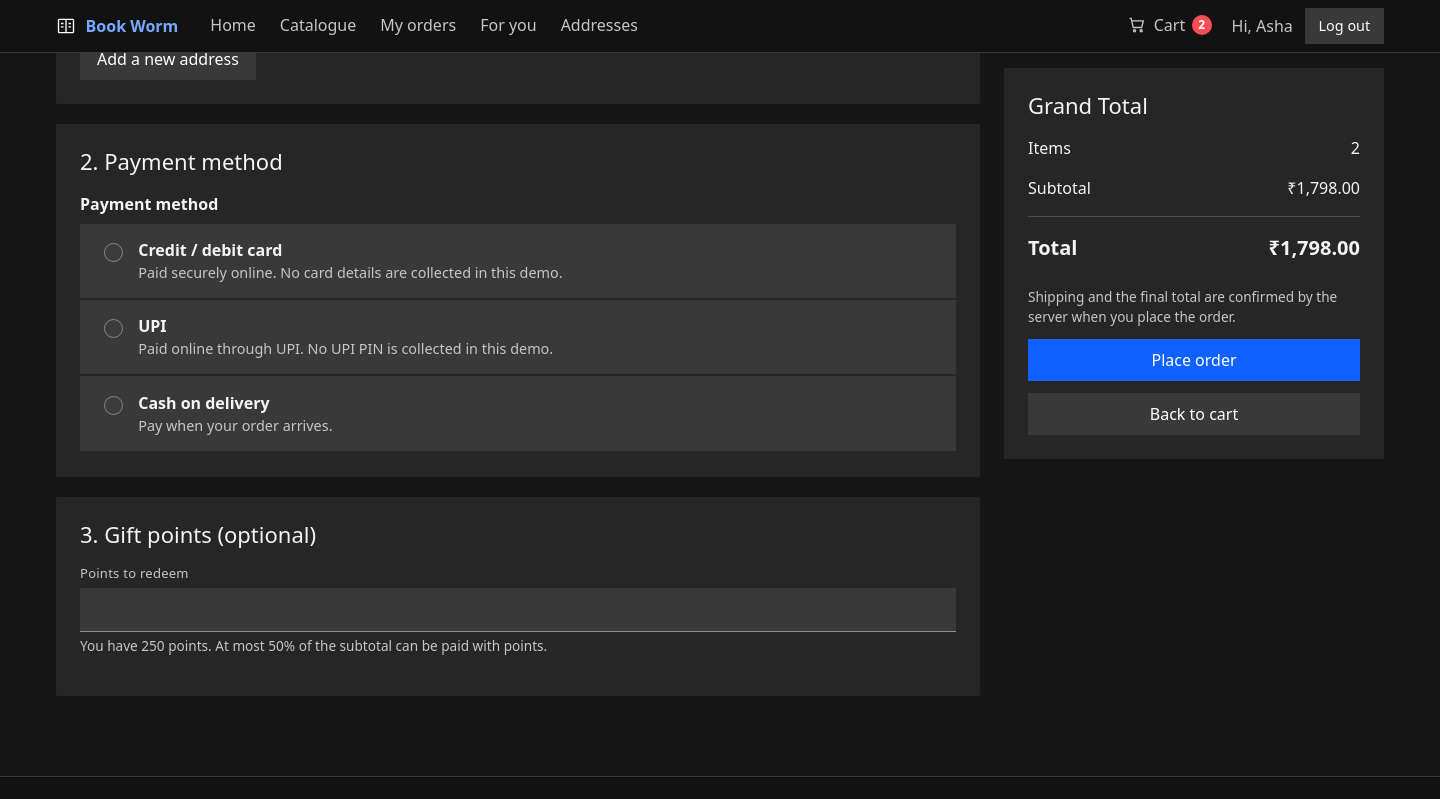
it: Journey: checkout, payment and confirmation › places a cash-on-delivery order without a payment step
This screenshot has width=1440, height=799.
(page scrolled)
Click the radio button labelled "Cash on delivery Pay when your order arrives." at (114,405), box [104, 396, 123, 415]
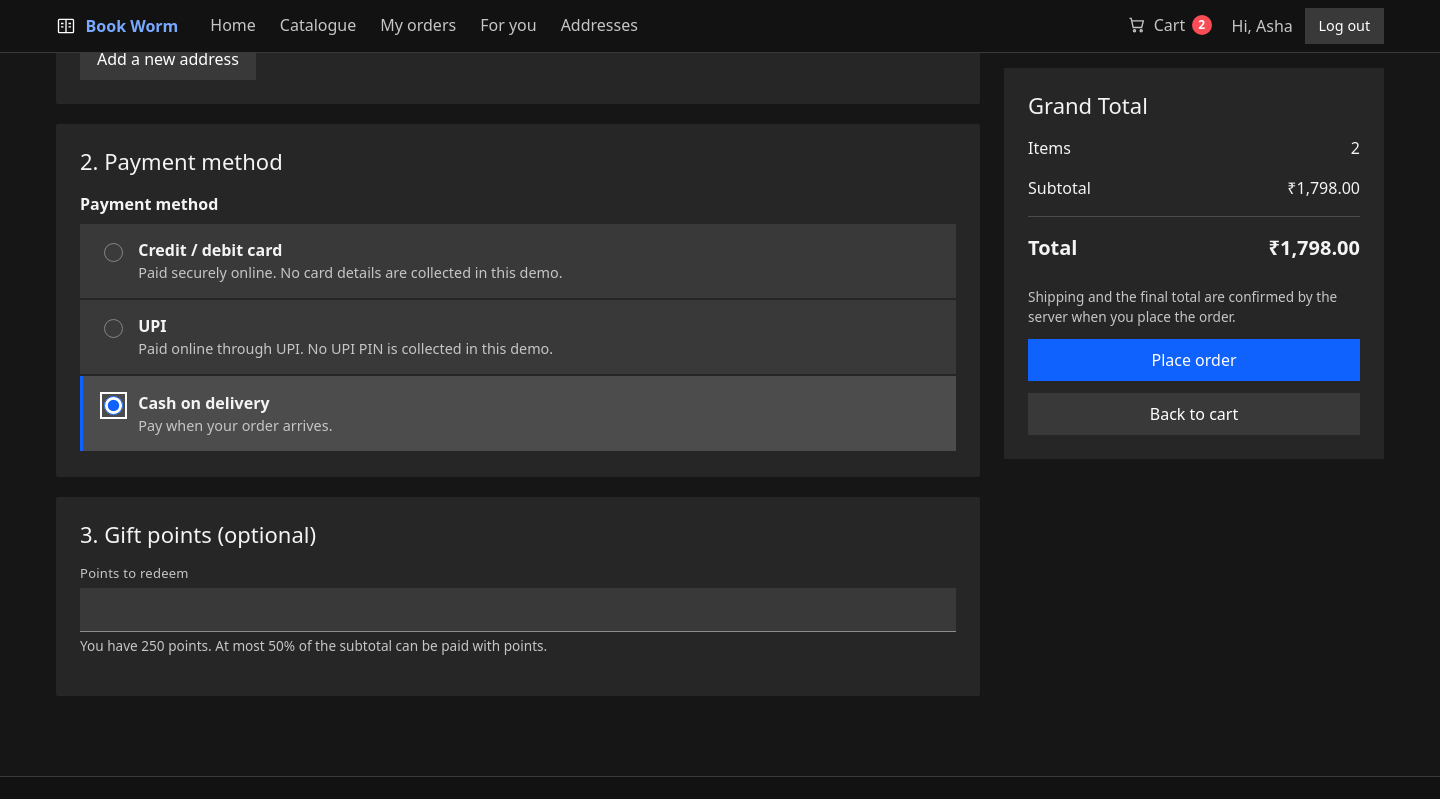
Click the button "Place order" at (1194,360), box [1028, 339, 1360, 381]
(page scrolled)
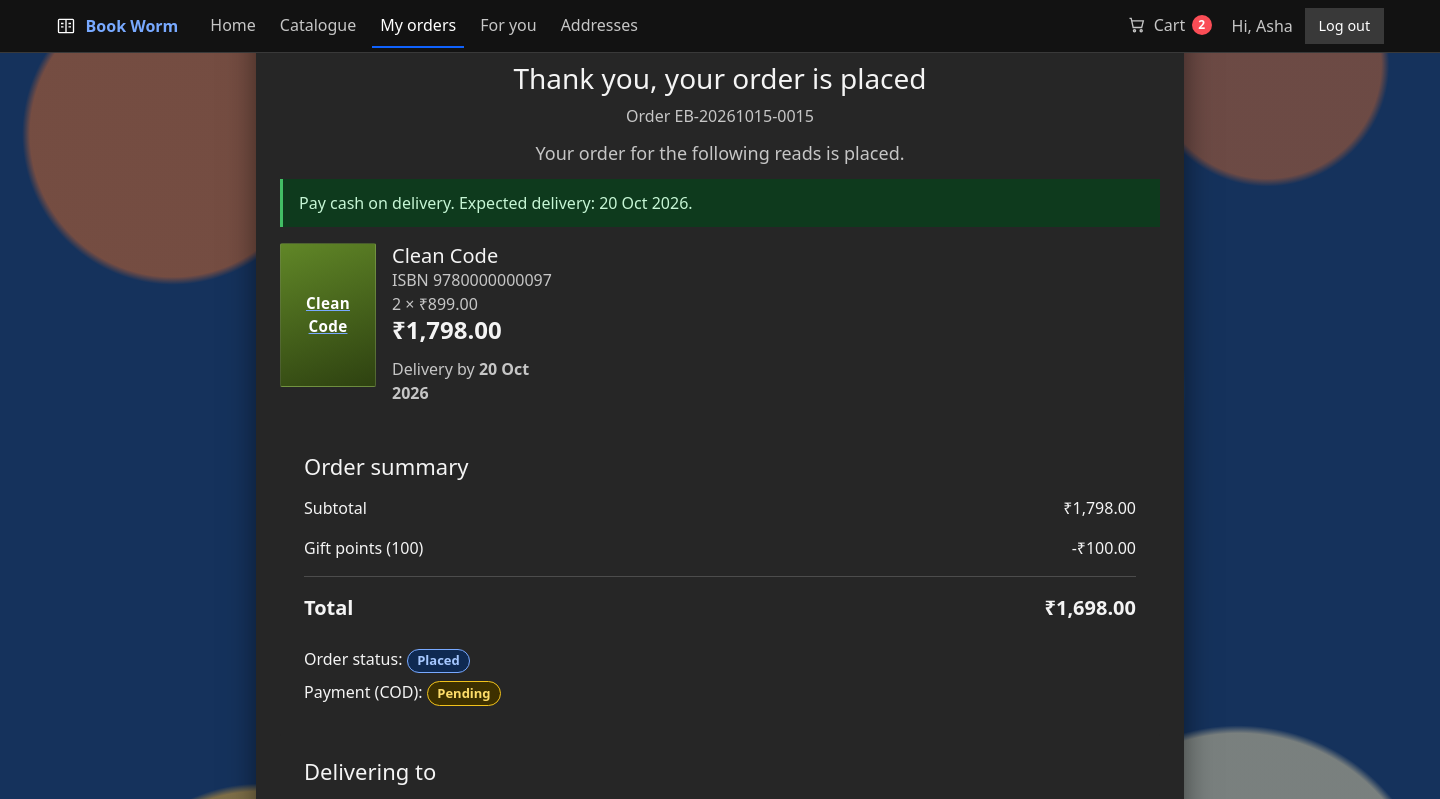
Now the heading "Thank you, your order is placed" is shown, box [513, 59, 926, 97]
